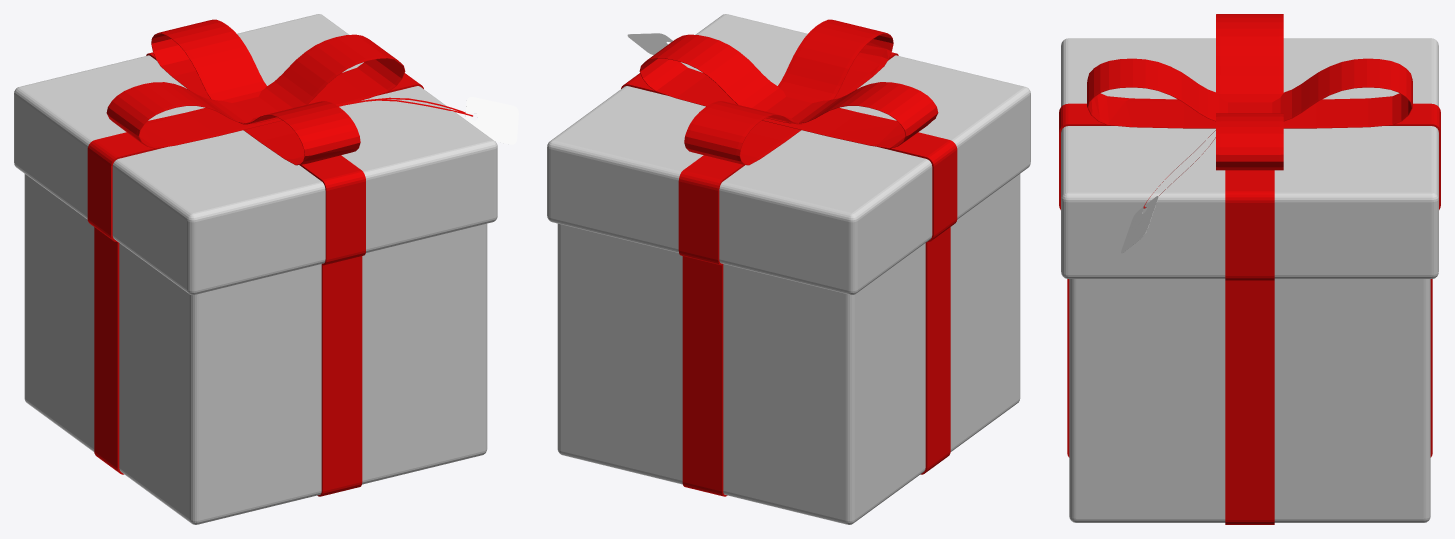
3 renders of one model, left to right at view 1: azimuth 30°, elevation 25°; view 2: azimuth 150°, elevation 25°; view 3: azimuth 270°, elevation 25°, orthographic. The views are drawn at different scales.
Parts seen in each view (by area): view 1: ChamferBox02, ChamferBox03, Rectangle01; view 2: ChamferBox02, ChamferBox03, Rectangle01; view 3: ChamferBox02, ChamferBox03, Rectangle01.
Part boxes in pixels (x1,y1,x2,y2): ChamferBox02: (14,14,497,524); ChamferBox03: (87,19,423,496); Rectangle01: (465,97,518,144); ChamferBox02: (547,14,1030,524); ChamferBox03: (621,19,957,496); Rectangle01: (627,33,672,54); ChamferBox02: (1061,38,1438,522); ChamferBox03: (1059,14,1440,524); Rectangle01: (1121,196,1158,253).
Bounding box in the file's own units: 27.78 × 25.87 × 23.61.
